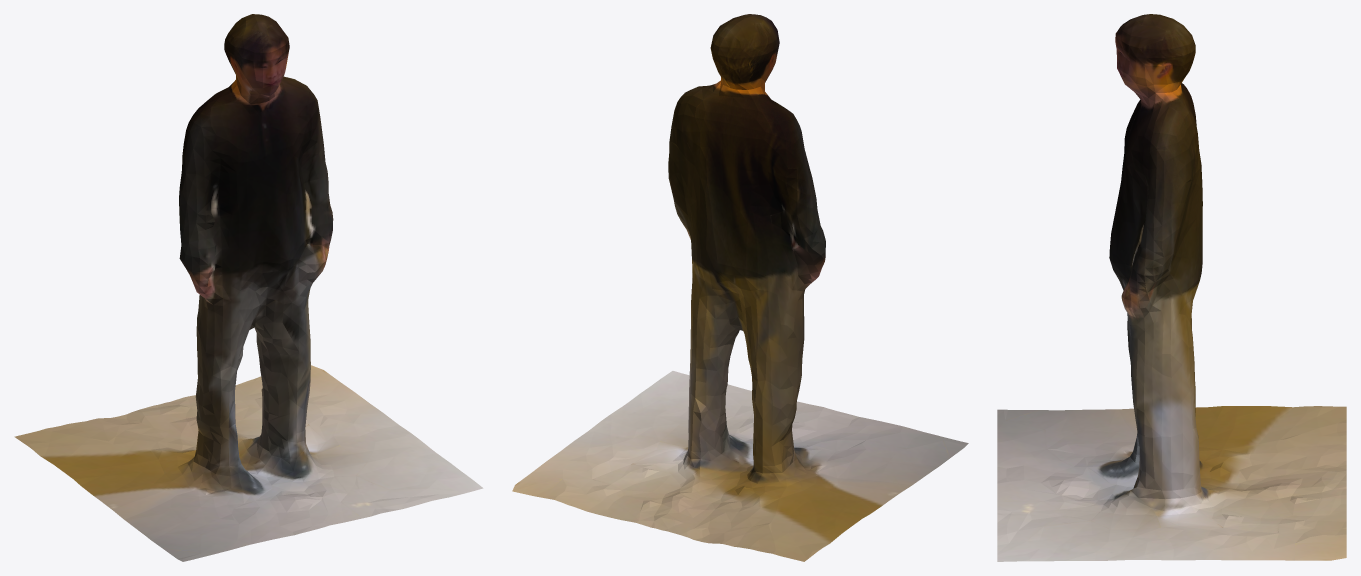
Rendered from mbo_friends_brian.glb.
3 views of the same model, side by side, from view 1: azimuth 30°, elevation 25°; view 2: azimuth 150°, elevation 25°; view 3: azimuth 270°, elevation 25° (orthographic). The views are drawn at different scales.
Bounding box in the file's own units: 1.28 × 1.85 × 1.23.
1 material, 1 textured.
